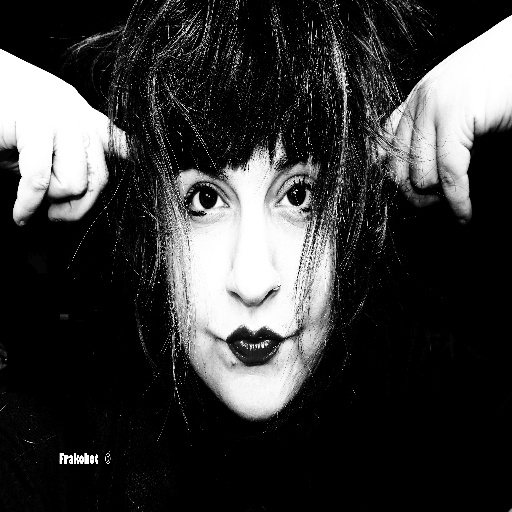hand: (370, 13, 511, 228), (0, 56, 124, 253)
